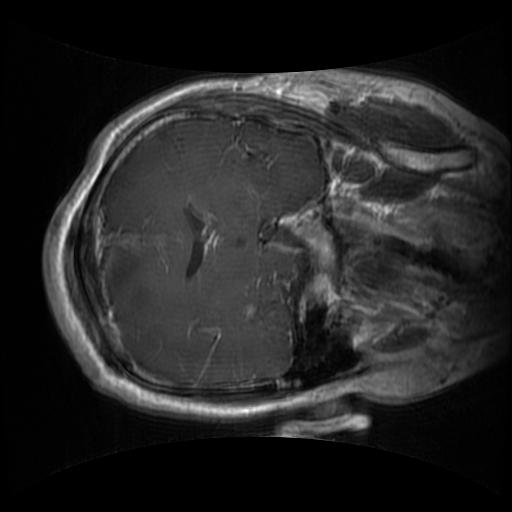glioma: (99, 241, 142, 300)
